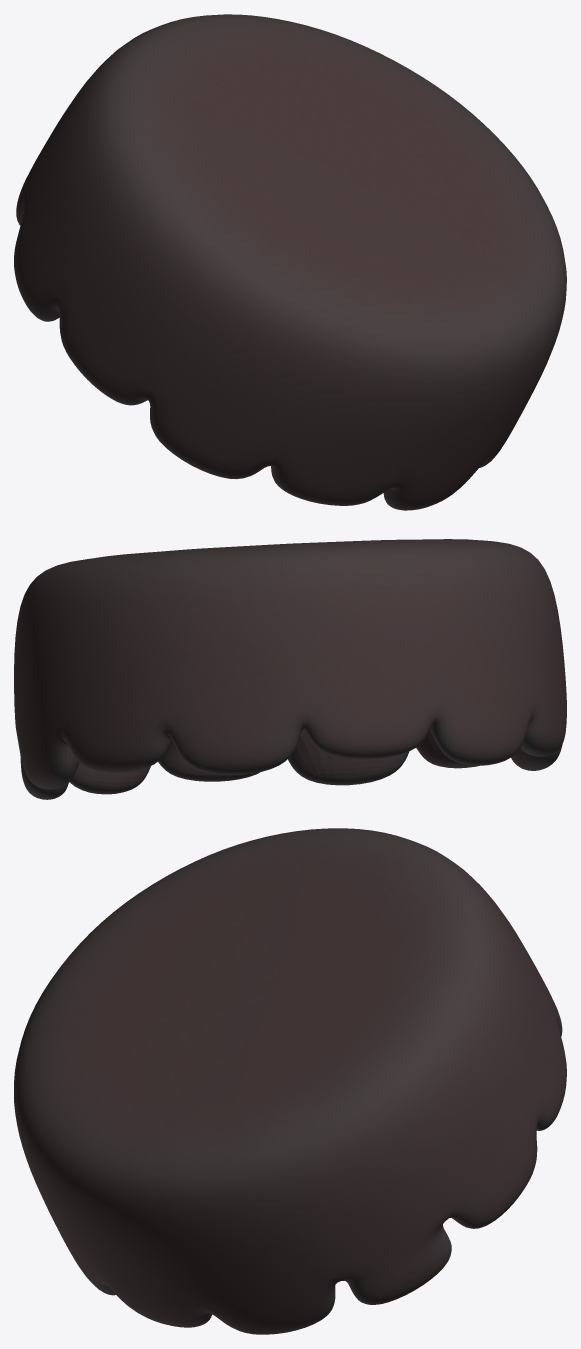
3 views of the same model, one above another, from view 1: azimuth 30°, elevation 25°; view 2: azimuth 150°, elevation 25°; view 3: azimuth 270°, elevation 25° (orthographic).
Visible parts, largest first — view 1: Cylinder.418; view 2: Cylinder.418; view 3: Cylinder.418.
Boxes of the visible parts, left/top/right/bottom form: Cylinder.418: left=14, top=14, right=566, bottom=510; Cylinder.418: left=14, top=539, right=566, bottom=799; Cylinder.418: left=14, top=828, right=566, bottom=1334.
Bounding box in the file's own units: 6.28 × 4.68 × 6.27.
1 material, 1 textured.
